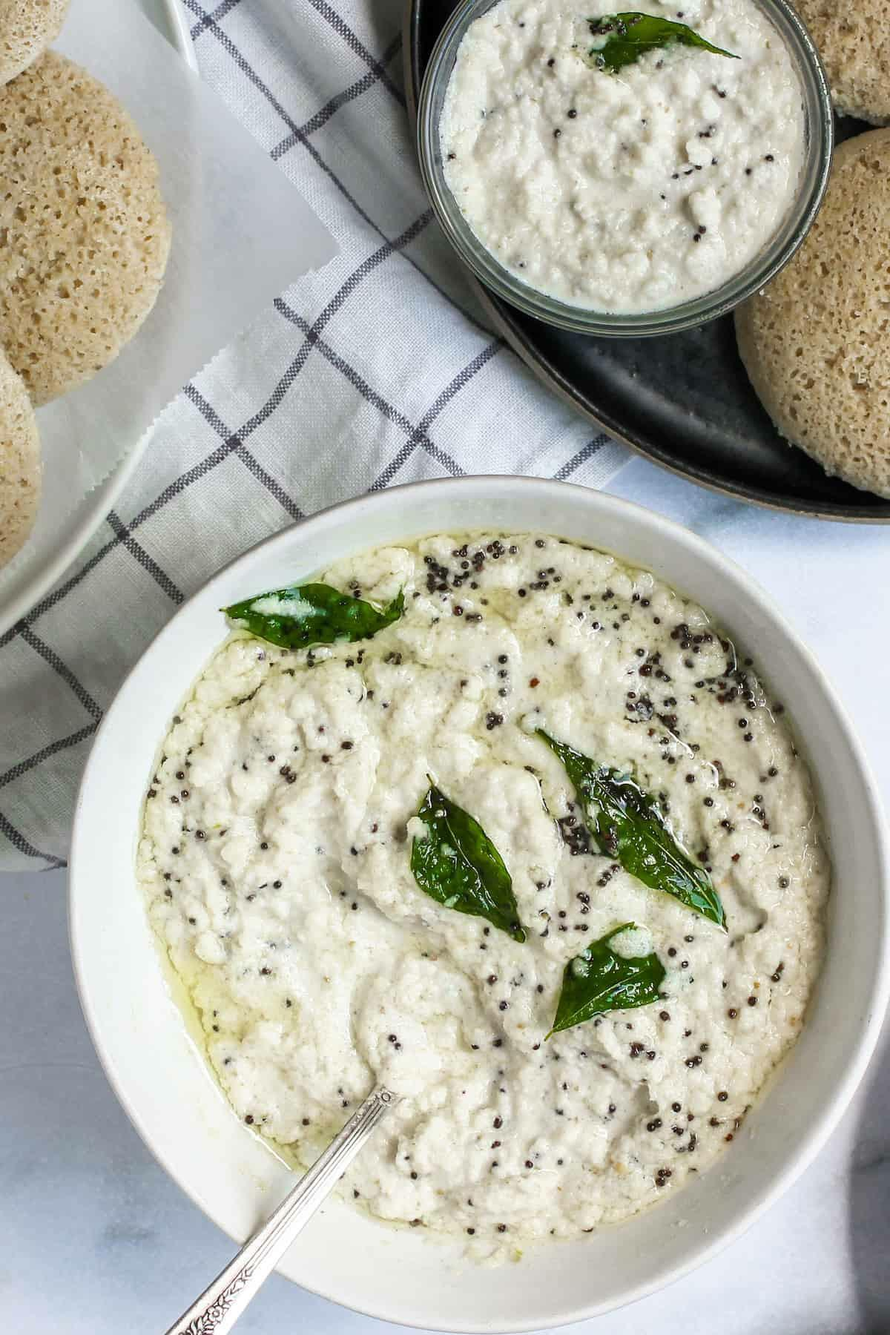CoconutChutney: (146, 536, 836, 1237)
